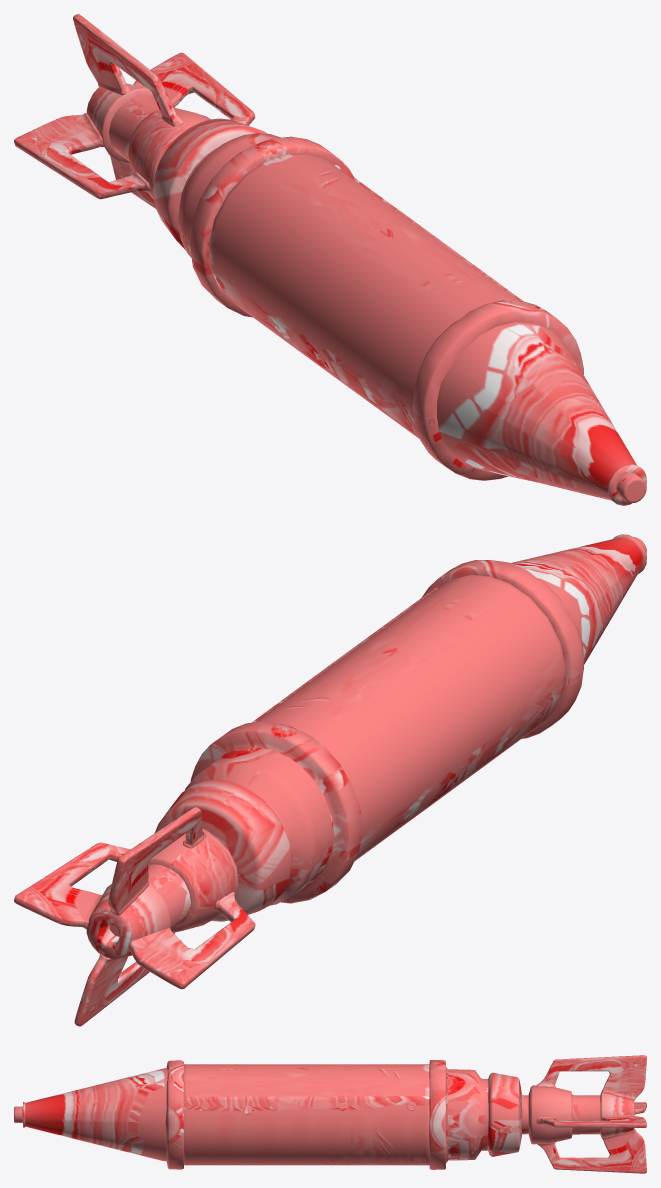
The model's file is rocket_mesh.fbx.
3 views of the same model, one above another, from view 1: azimuth 30°, elevation 25°; view 2: azimuth 150°, elevation 25°; view 3: azimuth 270°, elevation 25° (orthographic). The views are drawn at different scales.
Visible parts, largest first — view 1: rocket_mesh; view 2: rocket_mesh; view 3: rocket_mesh.
Boxes of the visible parts, <box> form: rocket_mesh: <box>14,14,646,505</box>; rocket_mesh: <box>14,534,646,1026</box>; rocket_mesh: <box>14,1055,646,1173</box>.
Bounding box in the file's own units: 0.0691 × 0.0693 × 0.376.
